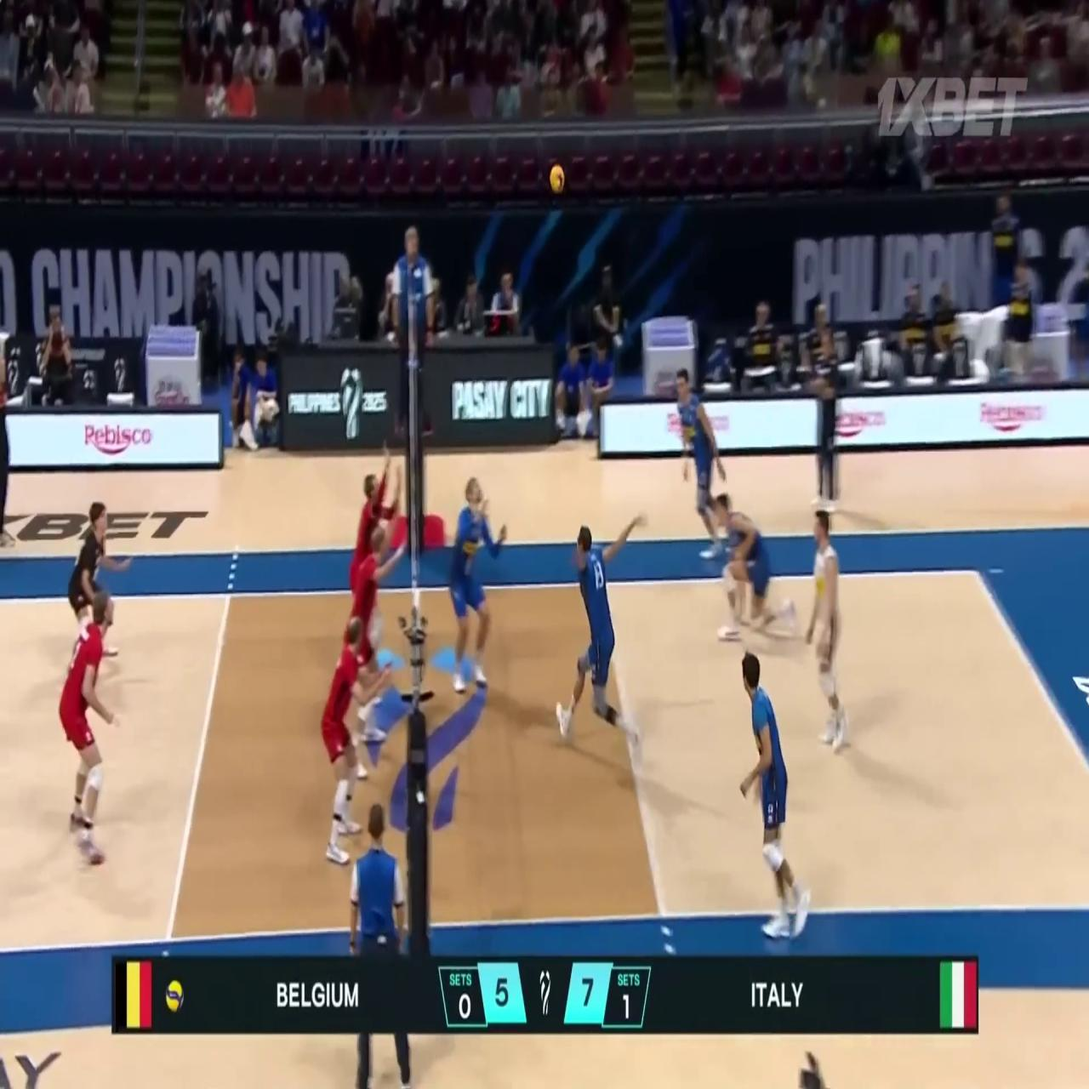ball: (550, 165, 566, 195)
